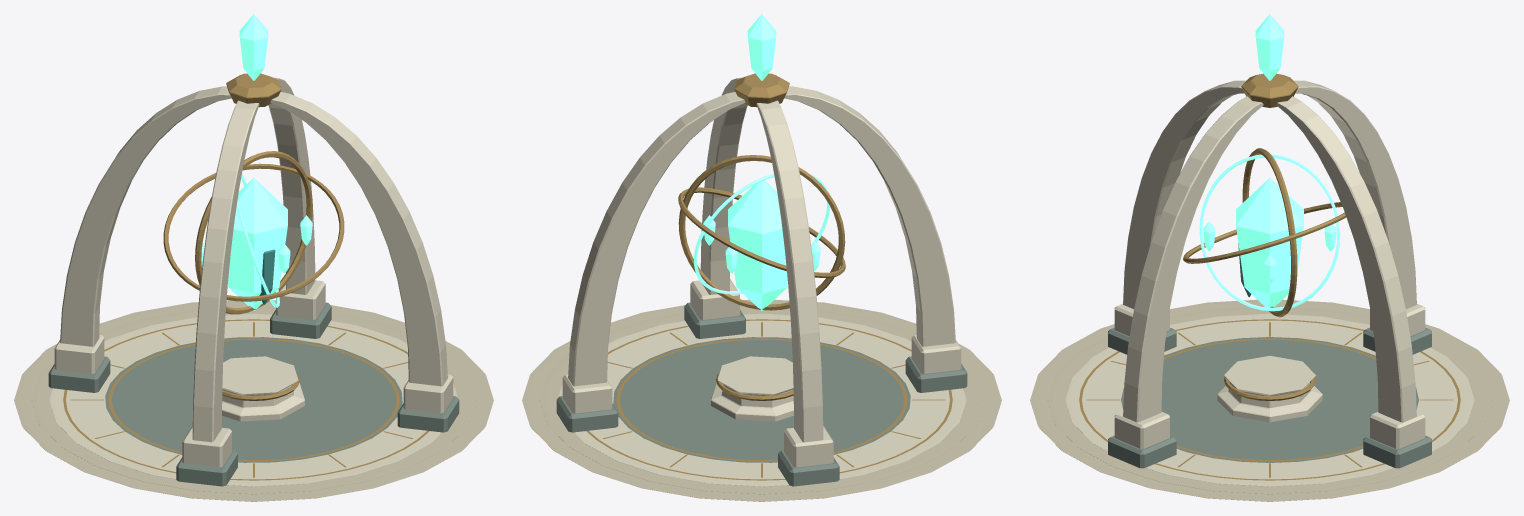
The model's file is sanctuary_green.glb.
3 views of the same model, side by side, from view 1: azimuth 30°, elevation 25°; view 2: azimuth 150°, elevation 25°; view 3: azimuth 270°, elevation 25° (orthographic).
Visible parts, largest first — view 1: sanctuary_green / mesh, NexusOrbit-0, NexusOrbit-1; view 2: sanctuary_green / mesh, NexusOrbit-1, NexusOrbit-0, NexusOrbit-2; view 3: sanctuary_green / mesh, NexusOrbit-2, NexusOrbit-1, NexusOrbit-0.
Boxes of the visible parts, x1,y1,x2,y2 form: sanctuary_green / mesh: (14, 14, 493, 501); NexusOrbit-0: (163, 163, 344, 301); NexusOrbit-1: (195, 151, 312, 314); sanctuary_green / mesh: (522, 14, 1001, 501); NexusOrbit-1: (678, 155, 845, 310); NexusOrbit-0: (678, 187, 845, 277); NexusOrbit-2: (694, 173, 829, 294); sanctuary_green / mesh: (1030, 14, 1509, 501); NexusOrbit-2: (1199, 154, 1340, 311); NexusOrbit-1: (1242, 148, 1297, 317); NexusOrbit-0: (1183, 202, 1346, 263).
Size of the model in its own units: 19 by 16.88 by 19.
